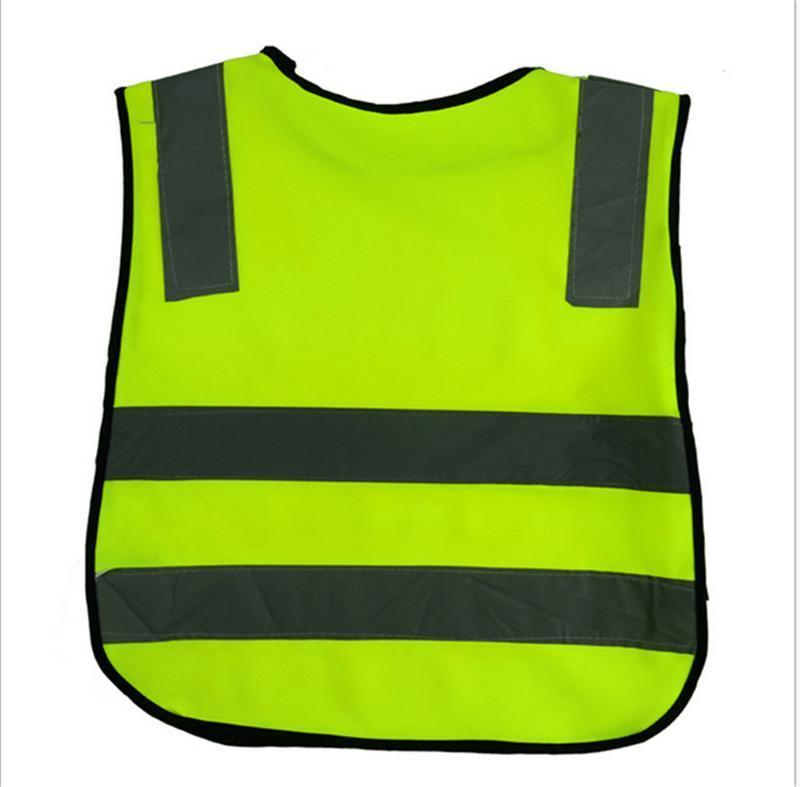vest: (86, 26, 709, 756)
